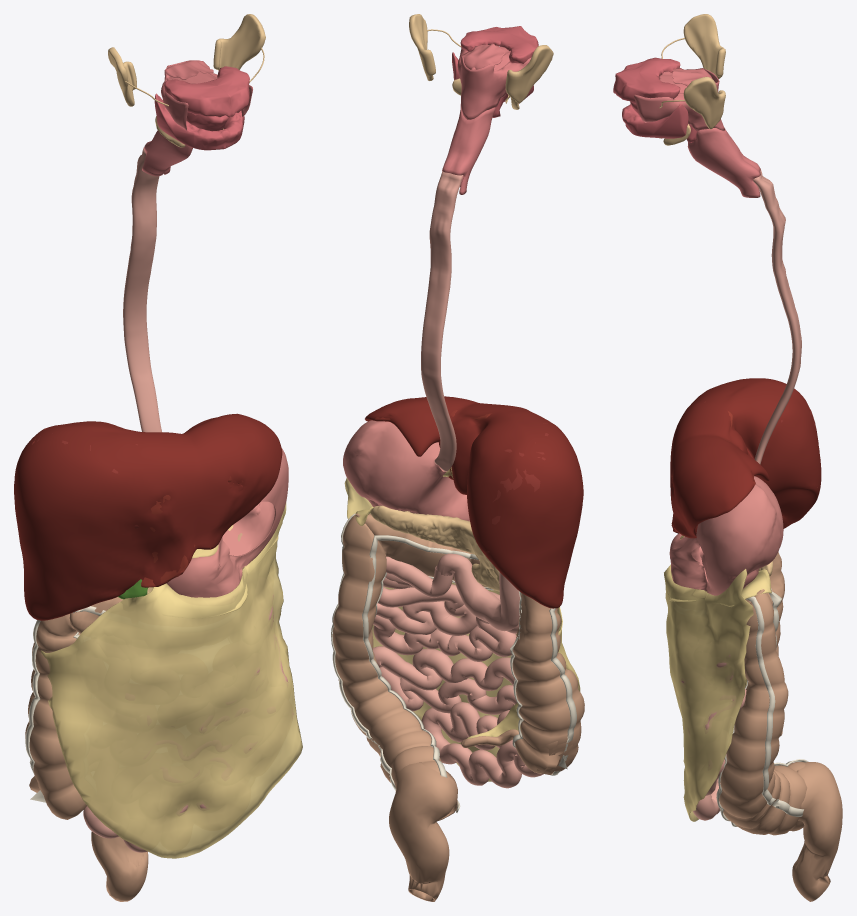
The model's file is male-digestive.glb.
3 views of the same model, side by side, from view 1: azimuth 30°, elevation 25°; view 2: azimuth 150°, elevation 25°; view 3: azimuth 270°, elevation 25° (orthographic). The views are drawn at different scales.
Parts seen in each view (by area): view 1: Greater_omentum, Liver, Oesophagus, Ascending_colon, Gingiva, Stomach, Sigmoid_colon, Jejunum, Parotid_gland_L, Mucosa_of_stomach, Laryngopharynx, Mesocolic_taenia (+5 smaller); view 2: Liver, Jejunum, Descending_colon, Ascending_colon, Stomach, Sigmoid_colon, Oesophagus, Pancreas, Duodenum, Free_taenia, Oropharynx, Laryngopharynx (+10 smaller); view 3: Liver, Greater_omentum, Descending_colon, Stomach, Sigmoid_colon, Gingiva, Oesophagus, Laryngopharynx, Parotid_gland_R, Mesocolic_taenia, Oropharynx, Parotid_gland_L (+4 smaller).
Part boxes in pixels (x1,y1,x2,y2): Greater_omentum: [41, 502, 302, 858]; Liver: [14, 413, 282, 620]; Oesophagus: [123, 147, 161, 432]; Ascending_colon: [25, 614, 86, 819]; Gingiva: [154, 66, 249, 150]; Stomach: [166, 448, 288, 597]; Sigmoid_colon: [91, 831, 148, 901]; Jejunum: [83, 595, 293, 852]; Parotid_gland_L: [213, 14, 265, 70]; Mucosa_of_stomach: [218, 501, 275, 576]; Laryngopharynx: [142, 130, 192, 176]; Mesocolic_taenia: [25, 606, 105, 802]; Liver: [365, 396, 583, 608]; Jejunum: [373, 556, 543, 788]; Descending_colon: [332, 513, 457, 820]; Ascending_colon: [512, 593, 584, 774]; Stomach: [343, 420, 469, 521]; Sigmoid_colon: [389, 762, 457, 901]; Oesophagus: [421, 171, 462, 471]; Pancreas: [370, 505, 499, 591]; Duodenum: [436, 553, 519, 631]; Free_taenia: [362, 535, 523, 777]; Oropharynx: [457, 48, 531, 119]; Laryngopharynx: [442, 105, 495, 194]; Liver: [670, 378, 821, 538]; Greater_omentum: [664, 564, 753, 821]; Descending_colon: [719, 590, 807, 835]; Stomach: [669, 476, 783, 595]; Sigmoid_colon: [792, 762, 842, 901]; Gingiva: [613, 57, 688, 138]; Oesophagus: [753, 169, 801, 464]; Laryngopharynx: [687, 127, 760, 197]; Parotid_gland_R: [683, 14, 725, 78]; Mesocolic_taenia: [746, 596, 803, 816]; Oropharynx: [634, 69, 724, 130]; Parotid_gland_L: [683, 76, 725, 129].
Size of the model in its own units: 0.2164 by 0.7094 by 0.1725.
